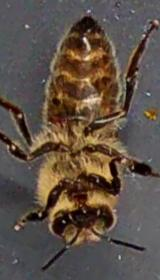varroa_mite: (44, 110, 64, 132)
